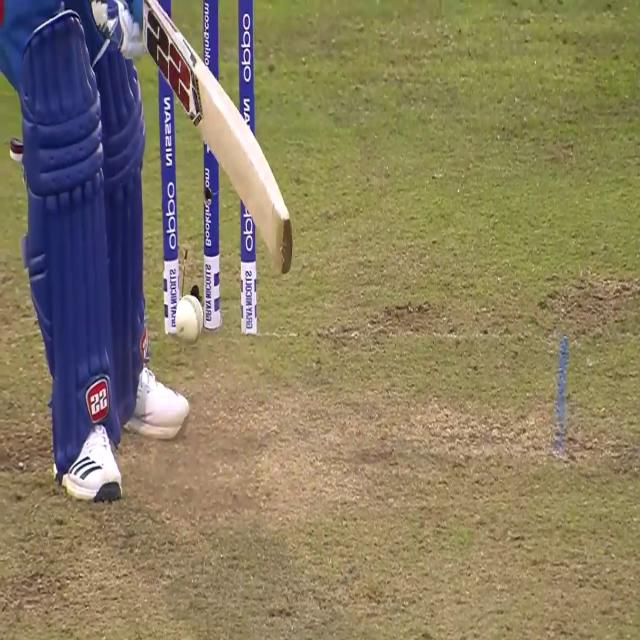ball: (174, 297, 204, 343)
